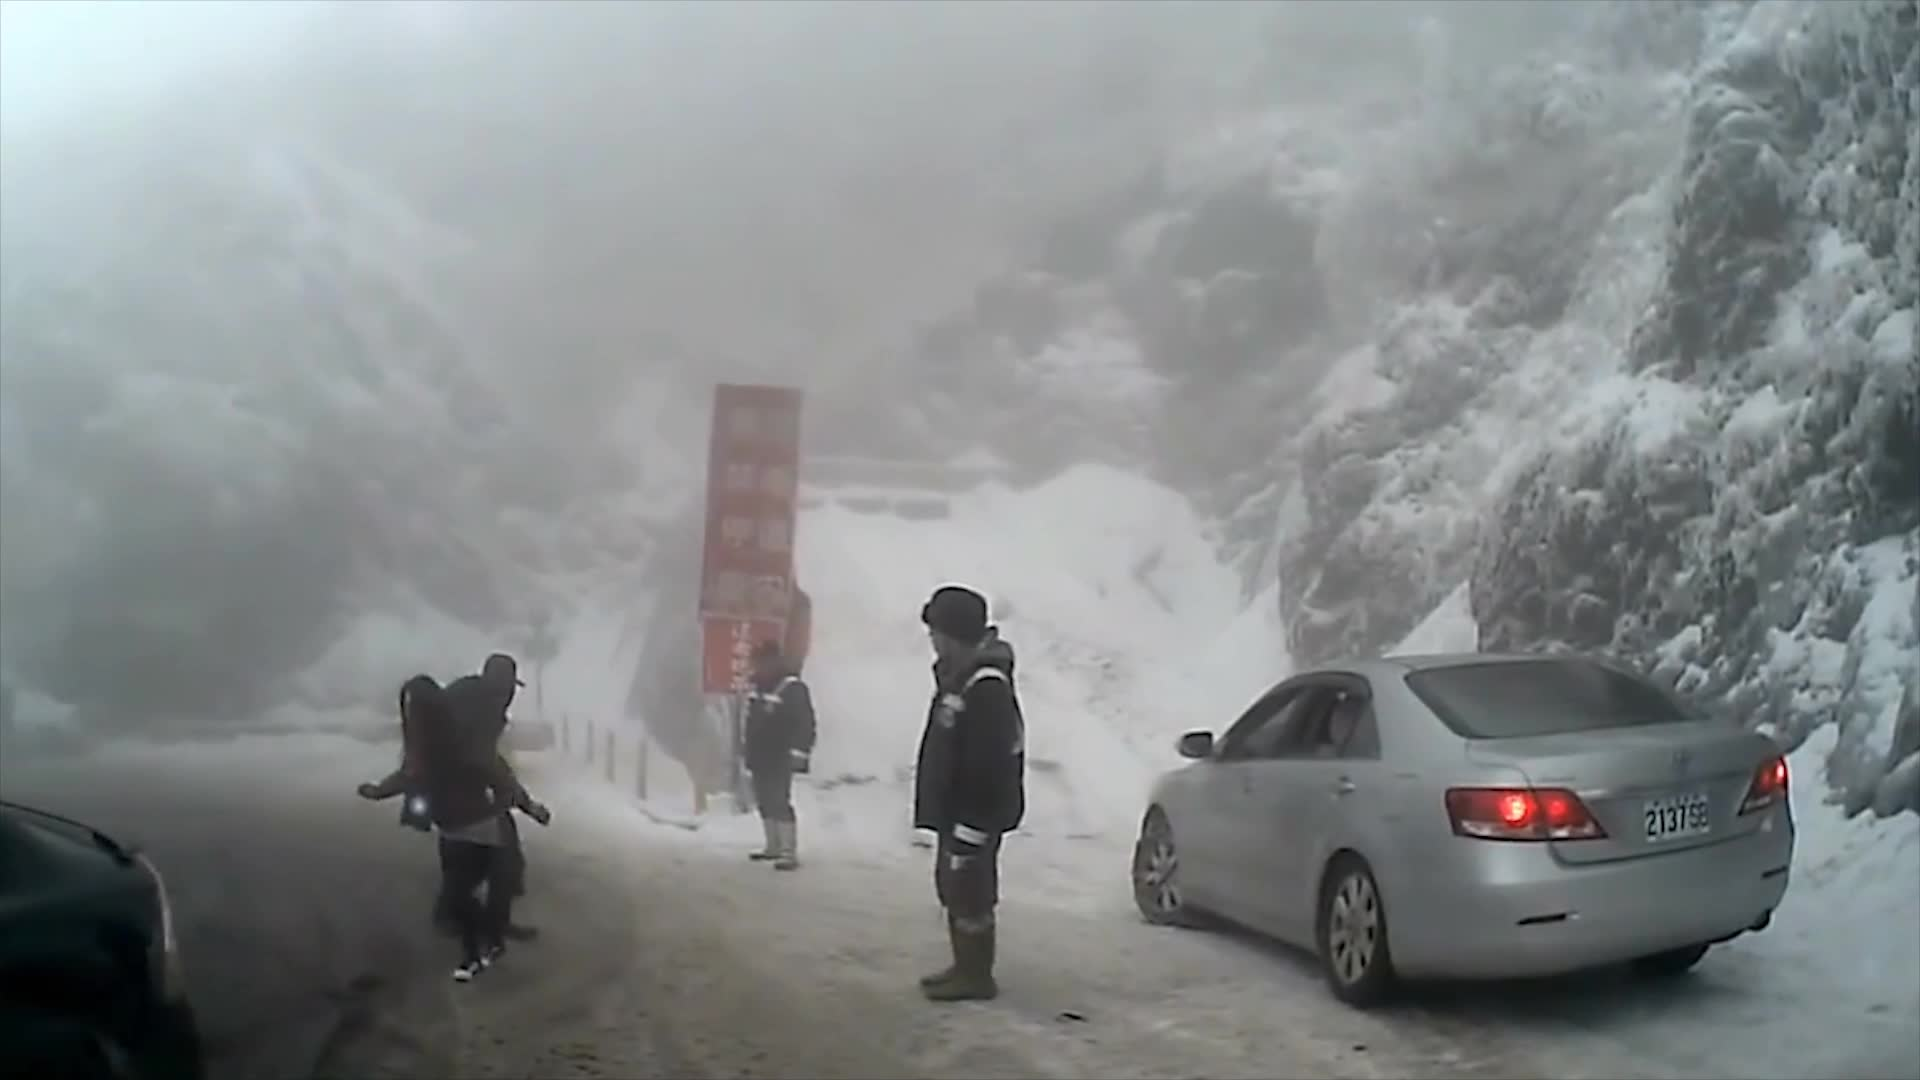pedestrian: (360, 674, 551, 979), (907, 585, 1036, 1011), (428, 657, 544, 939), (748, 636, 830, 877), (755, 568, 819, 746)
vehicle: (1129, 649, 1795, 1007), (0, 786, 213, 1078)
